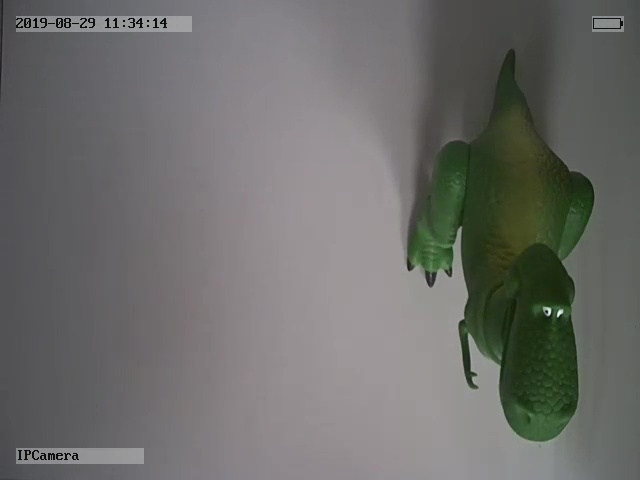rex: (406, 48, 595, 443)
